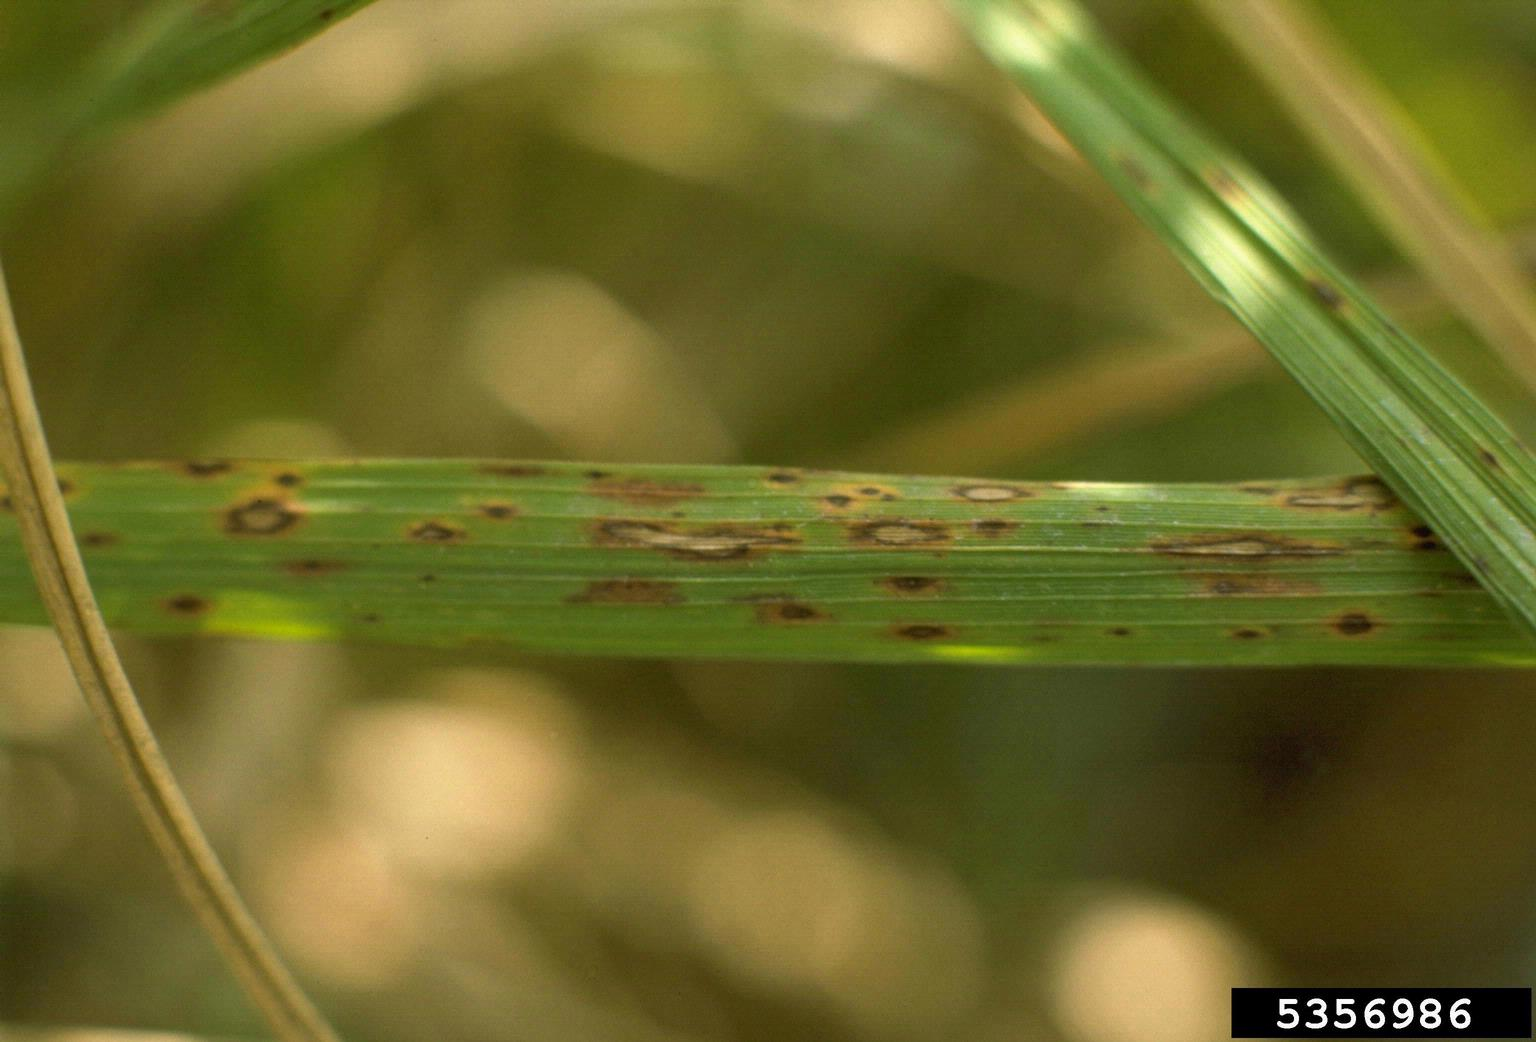Bercak Coklat: (869, 562, 944, 609), (155, 584, 223, 630), (764, 590, 830, 635), (401, 509, 466, 555), (1310, 609, 1385, 638), (895, 619, 960, 644), (471, 498, 526, 527), (963, 509, 1017, 538), (1220, 618, 1276, 645), (810, 490, 863, 516), (257, 465, 314, 490), (755, 468, 803, 492), (580, 465, 617, 495), (1101, 619, 1136, 644), (1403, 522, 1446, 538), (1413, 538, 1445, 556)
Busuk Leher: (596, 516, 806, 561), (1146, 529, 1315, 570), (215, 492, 310, 543), (1278, 481, 1403, 514), (946, 479, 1045, 507), (846, 524, 944, 547)
